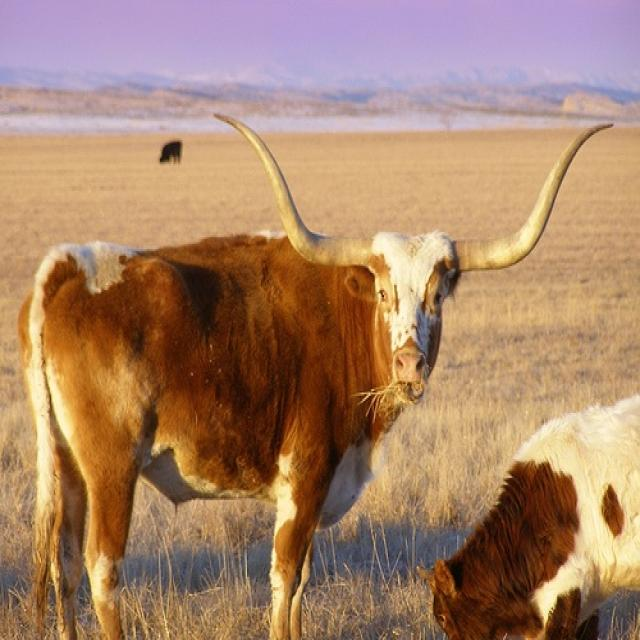cow: (18, 226, 459, 638), (430, 389, 639, 638), (157, 140, 182, 165)
